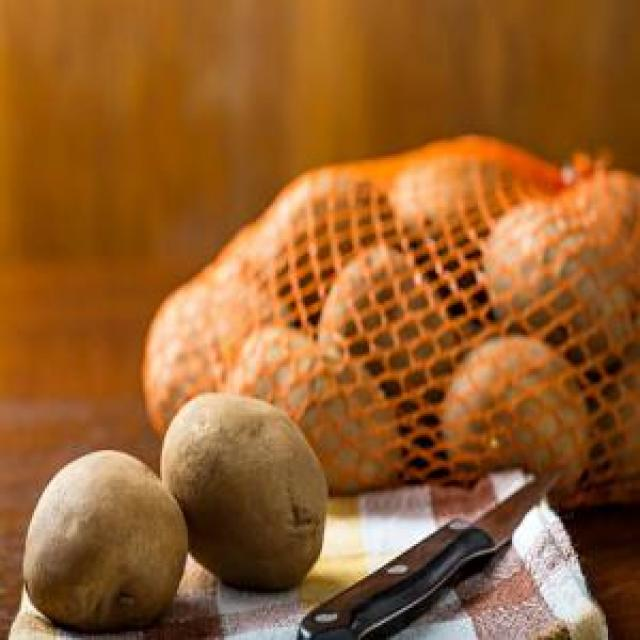knife: (299, 452, 578, 638)
